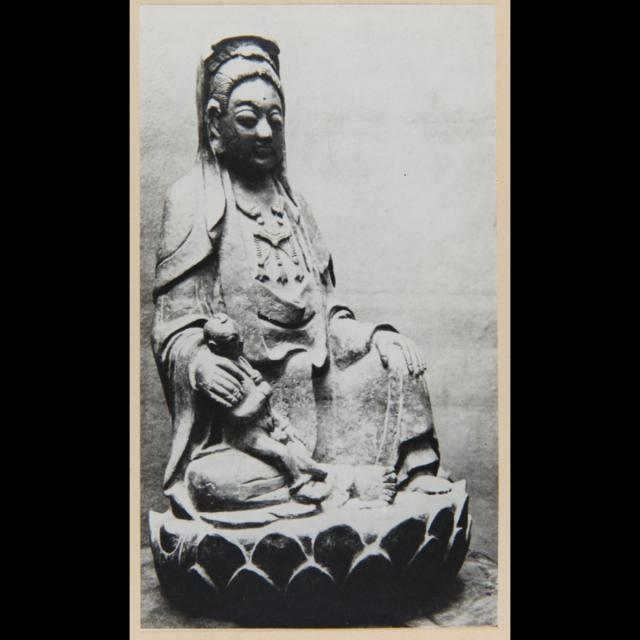buddha-sitting: (160, 30, 477, 583)
